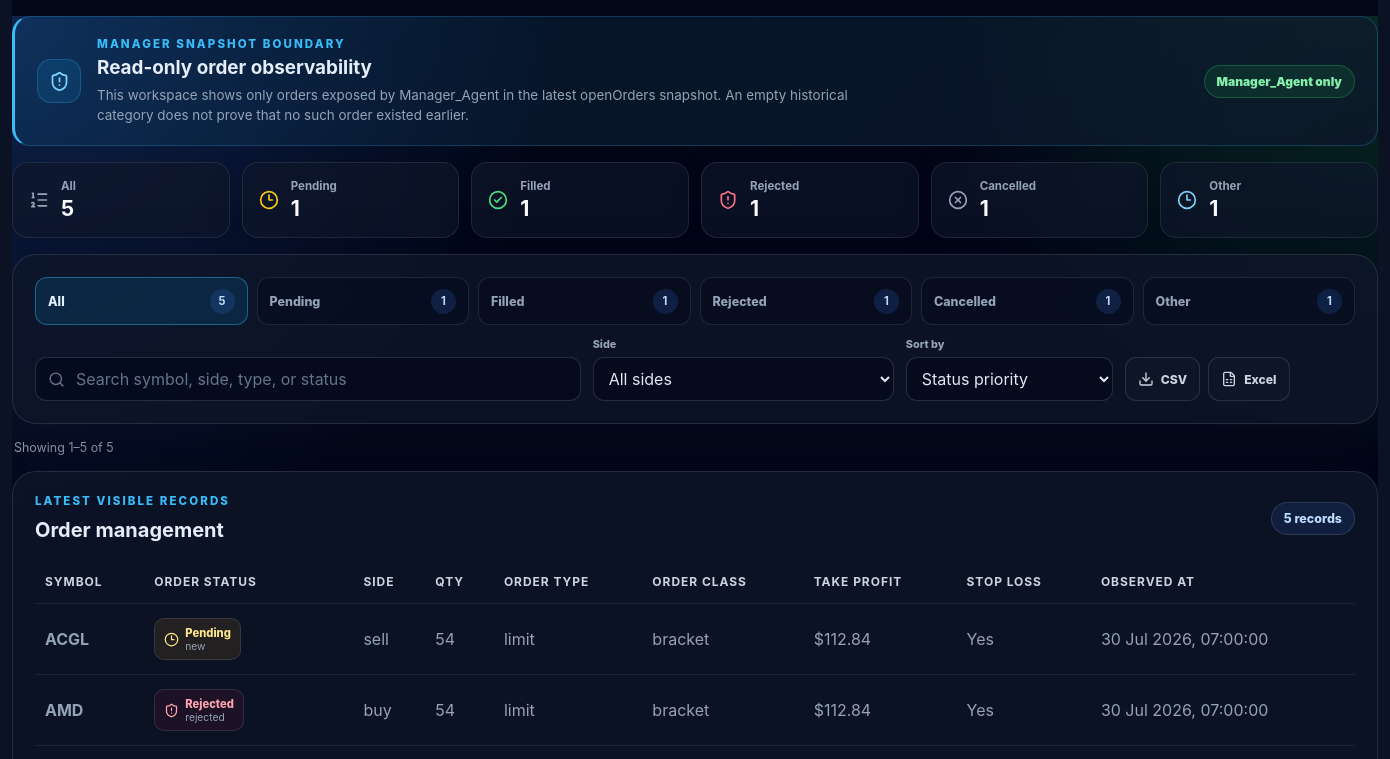
Test: order management workspace › exports the filtered order view and announces the deterministic filename
The image size is (1390, 759).
Click the button "Filled 1" at coordinates (584, 301), box [478,277,690,325]
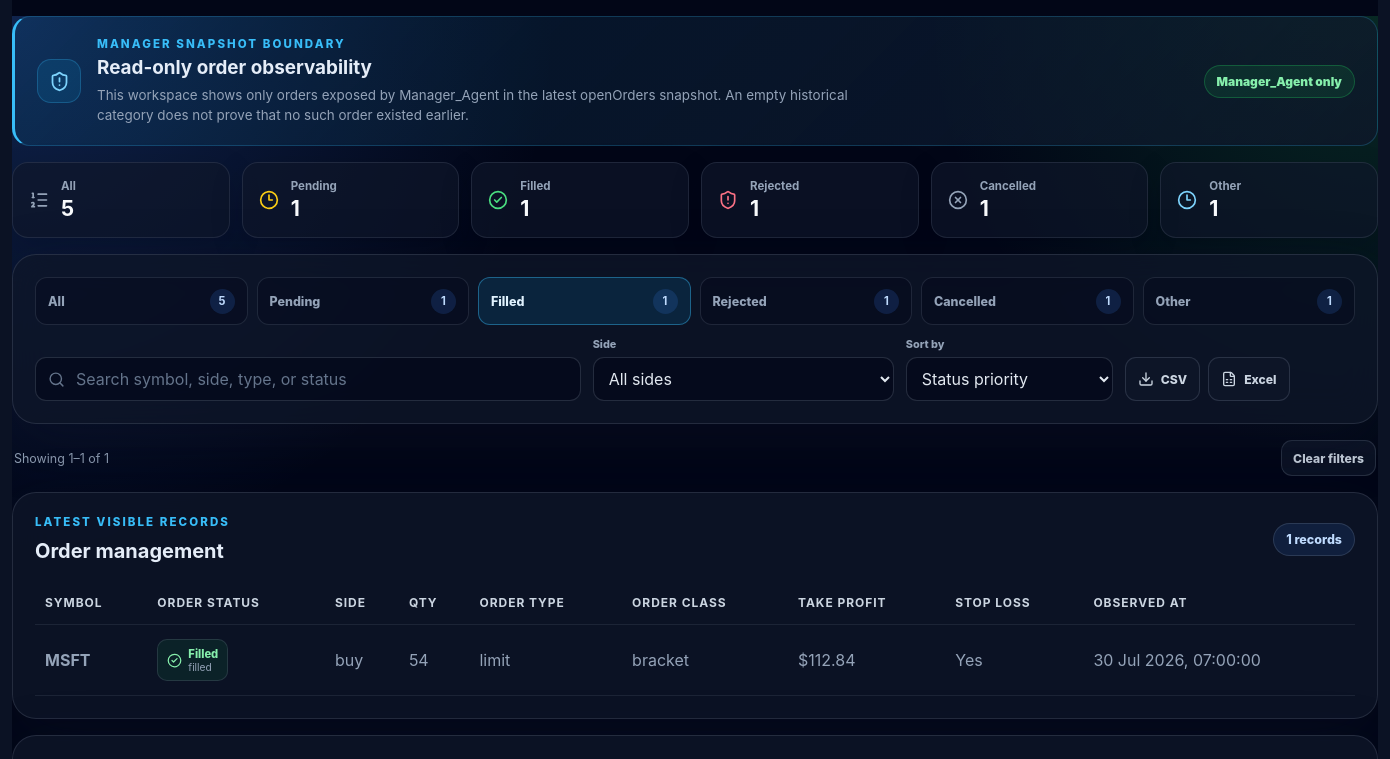
Click the button "CSV" at coordinates (1162, 379), box [1125,357,1200,401]
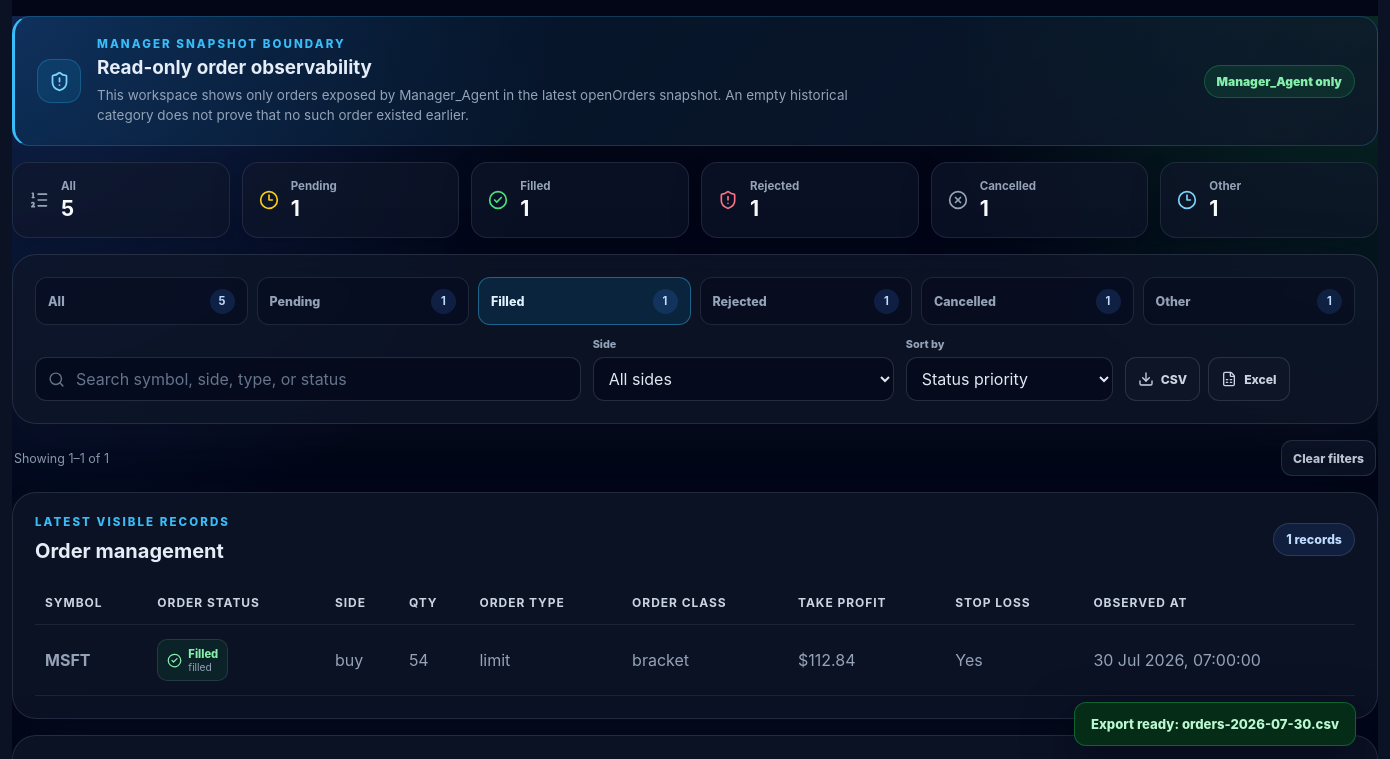
Now the message shows "orders-2026-07-30.csv", box [1091,716,1339,732]
